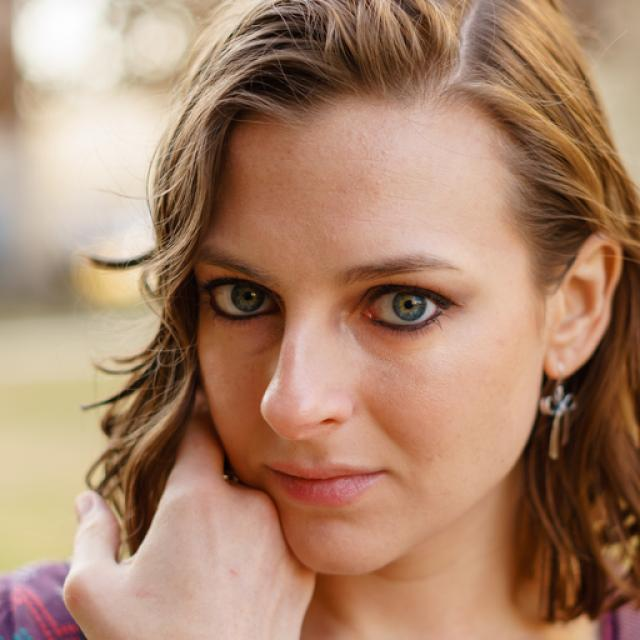neutral: (196, 72, 544, 580)
